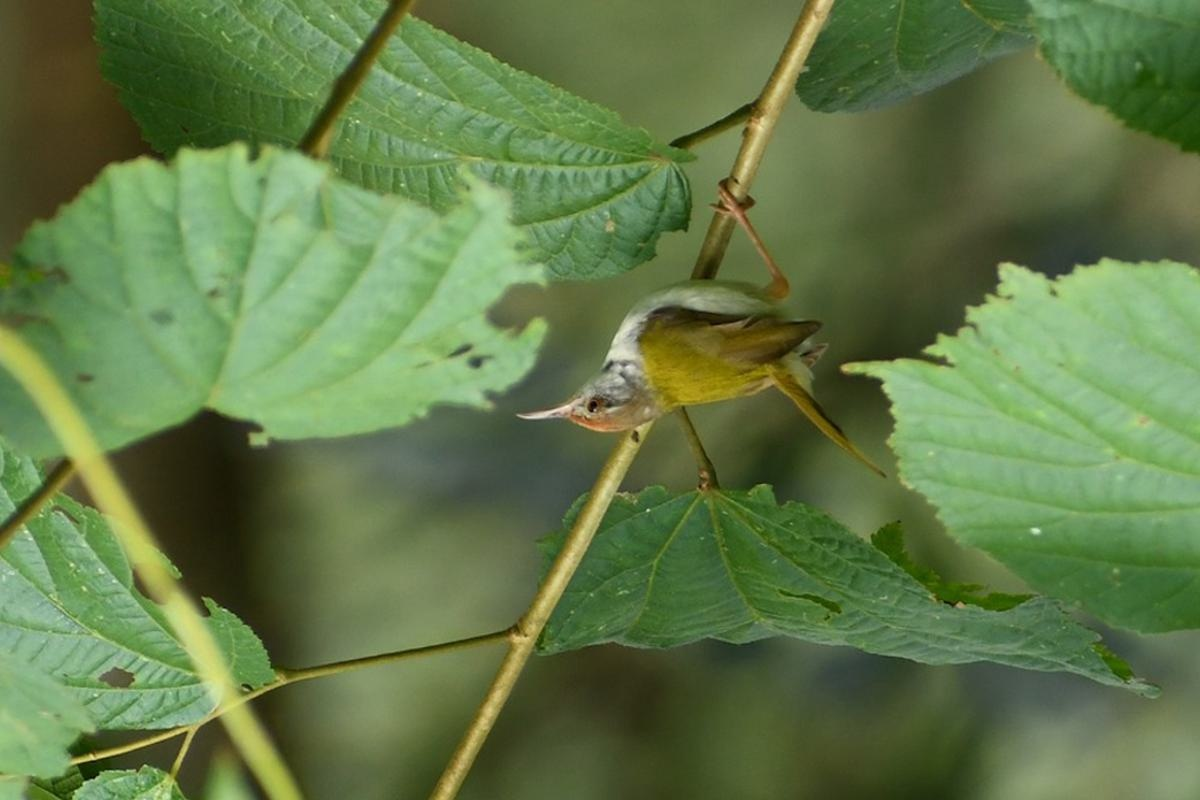tailorbird: (510, 168, 953, 533)
